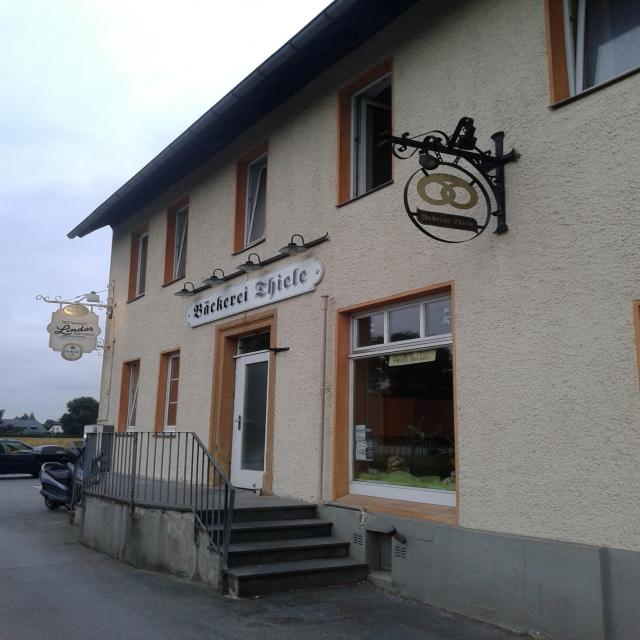AVOID: (175, 504, 375, 595)
